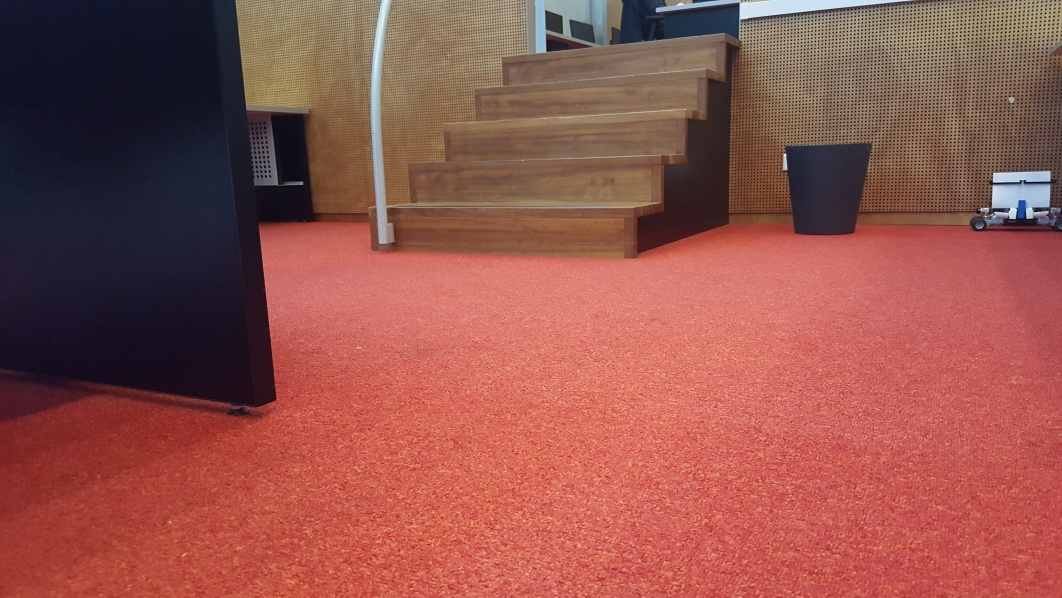car: (971, 171, 1062, 233)
